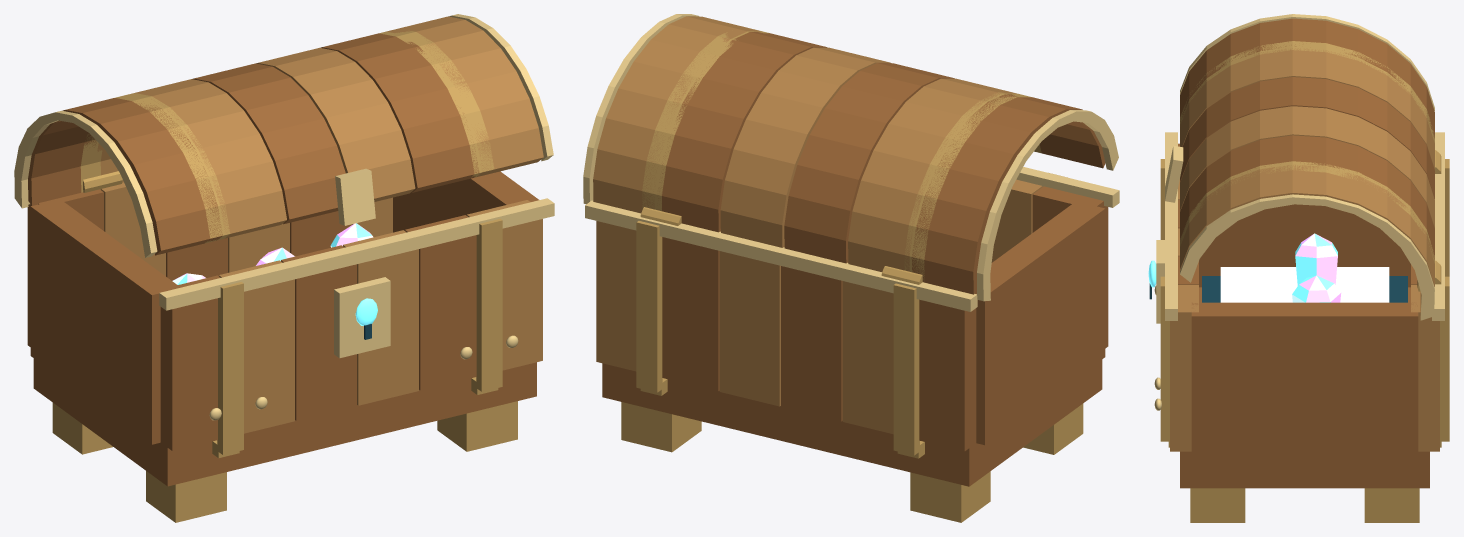
Rendered from treasure-chest.glb.
The picture shows the model from 3 angles, left to right: view 1: azimuth 30°, elevation 25°; view 2: azimuth 150°, elevation 25°; view 3: azimuth 270°, elevation 25°; orthographic projection. The views are drawn at different scales.
Visible parts, largest first — view 1: Chest • shaped end wall, Chest • bottom oak floor, Chest • curved oak lid plank 00, Chest • curved oak lid plank 01, Chest • curved oak lid plank 02, Chest • curved oak lid plank 04, Chest • curved oak lid plank 03, Chest • curved oak lid plank 05, Chest • hand-cut wall board 04, Chest • hand-cut wall board 00, Chest • hand-cut wall board 02, Chest • upper brass lip (+21 smaller); view 2: Chest • shaped end wall, Chest • bottom oak floor, Chest • curved oak lid plank 00, Chest • curved oak lid plank 02, Chest • curved oak lid plank 03, Chest • curved oak lid plank 04, Chest • curved oak lid plank 01, Chest • curved oak lid plank 05, Chest • hand-cut wall board 02.001, Chest • hand-cut wall board 03.001, Chest • hand-cut wall board 04.001, Chest • hand-cut wall board 00.001 (+15 smaller); view 3: Chest • shaped end wall.001, Chest • shaped end wall, Chest • bottom oak floor, Chest • curved oak lid plank 03, Chest • curved oak lid plank 02, Chest • curved oak lid plank 05, Chest • curved oak lid plank 01, Chest • curved oak lid plank 04, Chest • curved oak lid plank 00, Chest • glowing heartlight inside, Chest • lid edge binding.001, Chest • hand-cut wall board 05 (+17 smaller).
Part boxes in pixels (box(x1,y1,x2,y2)): Chest • shaped end wall: box(30, 202, 180, 444); Chest • bottom oak floor: box(33, 358, 536, 486); Chest • curved oak lid plank 00: box(28, 98, 222, 255); Chest • curved oak lid plank 01: box(97, 79, 286, 238); Chest • curved oak lid plank 02: box(192, 63, 345, 224); Chest • curved oak lid plank 04: box(320, 33, 479, 192); Chest • curved oak lid plank 03: box(256, 47, 415, 201); Chest • curved oak lid plank 05: box(386, 16, 543, 176); Chest • hand-cut wall board 04: box(405, 215, 476, 390); Chest • hand-cut wall board 00: box(157, 275, 220, 450); Chest • hand-cut wall board 02: box(281, 245, 356, 420); Chest • upper brass lip: box(159, 198, 554, 310); Chest • shaped end wall: box(976, 201, 1105, 445); Chest • bottom oak floor: box(602, 359, 1102, 486); Chest • curved oak lid plank 00: box(911, 94, 1105, 294); Chest • curved oak lid plank 02: box(784, 63, 954, 263); Chest • curved oak lid plank 03: box(720, 47, 891, 247); Chest • curved oak lid plank 04: box(658, 32, 827, 232); Chest • curved oak lid plank 01: box(848, 78, 1034, 271); Chest • curved oak lid plank 05: box(593, 16, 761, 213); Chest • hand-cut wall board 02.001: box(781, 266, 842, 421); Chest • hand-cut wall board 03.001: box(719, 251, 780, 406); Chest • hand-cut wall board 04.001: box(662, 237, 719, 391); Chest • hand-cut wall board 00.001: box(919, 299, 976, 451); Chest • shaped end wall.001: box(1191, 302, 1418, 455); Chest • shaped end wall: box(1199, 204, 1410, 287); Chest • bottom oak floor: box(1180, 287, 1429, 488); Chest • curved oak lid plank 03: box(1180, 106, 1434, 228); Chest • curved oak lid plank 02: box(1180, 77, 1434, 198); Chest • curved oak lid plank 05: box(1180, 164, 1434, 312); Chest • curved oak lid plank 01: box(1180, 48, 1434, 169); Chest • curved oak lid plank 04: box(1180, 135, 1434, 256); Chest • curved oak lid plank 00: box(1180, 18, 1434, 138); Chest • glowing heartlight inside: box(1220, 267, 1389, 302); Chest • lid edge binding.001: box(1180, 194, 1434, 320); Chest • hand-cut wall board 05: box(1170, 284, 1198, 451).
Size of the model in its own units: 1.49 by 1.29 by 1.04.
